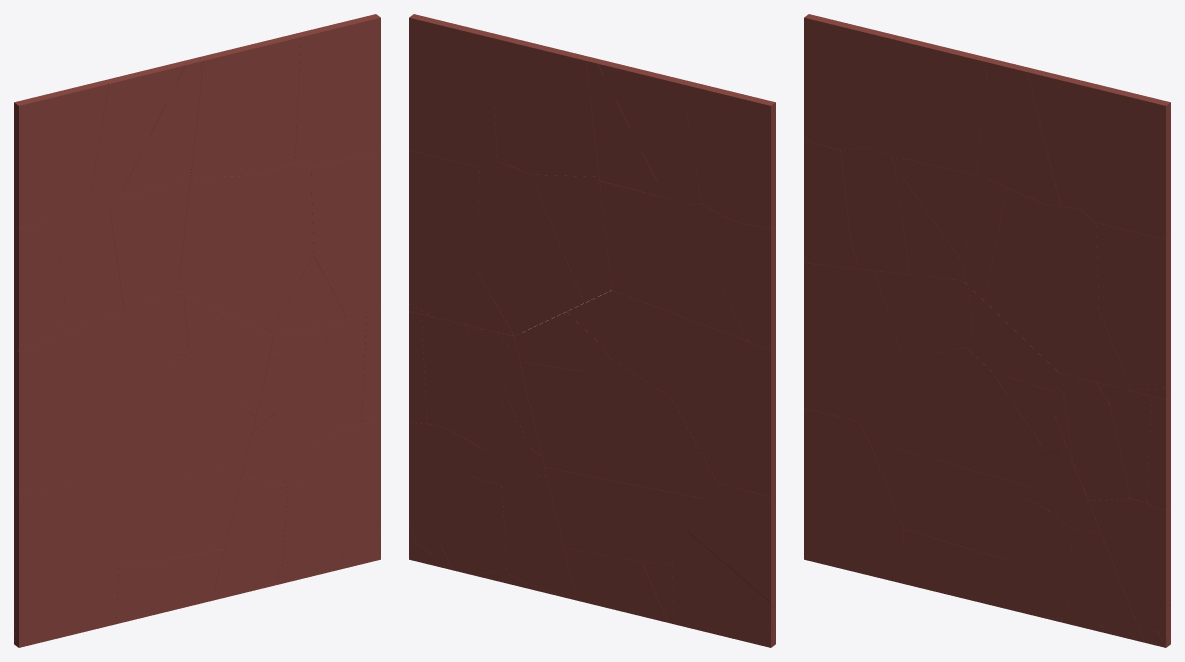
Rendered from wall03,04_Bx.fbx.
3 renders of one model, left to right at view 1: azimuth 30°, elevation 25°; view 2: azimuth 150°, elevation 25°; view 3: azimuth 330°, elevation 25°, orthographic.
Parts seen in each view (by area): view 1: wall03_B.001_cell.002_cell.012, wall03_B.001_cell.002_cell, wall03_B.001_cell.002_cell.010, wall03_B.001_cell.001_cell, wall03_B.001_cell.001_cell.009, wall03_B.001_cell.005_cell, wall03_B.001_cell.002_cell.013, wall03_B.001_cell.001_cell.005, wall03_B.001_cell.001_cell.003, wall03_B.001_cell.005_cell.004, wall03_B.001_cell.003_cell.011, wall03_B.001_cell.005_cell.007 (+23 smaller); view 2: wall03_B.001_cell.002_cell.012, wall03_B.001_cell.002_cell.010, wall03_B.001_cell.001_cell.009, wall03_B.001_cell.001_cell, wall03_B.001_cell.005_cell, wall03_B.001_cell.001_cell.005, wall03_B.001_cell.002_cell.013, wall03_B.001_cell.001_cell.003, wall03_B.001_cell.005_cell.004, wall03_B.001_cell.002_cell.001, wall03_B.001_cell.002_cell, wall03_B.001_cell.002_cell.007 (+23 smaller); view 3: wall03_B.001_cell.002_cell.012, wall03_B.001_cell.002_cell, wall03_B.001_cell.001_cell, wall03_B.001_cell.002_cell.010, wall03_B.001_cell.001_cell.009, wall03_B.001_cell.002_cell.013, wall03_B.001_cell.001_cell.005, wall03_B.001_cell.005_cell, wall03_B.001_cell.001_cell.003, wall03_B.001_cell.003_cell.011, wall03_B.001_cell.005_cell.004, wall03_B.001_cell.005_cell.007 (+23 smaller).
Boxes of the visible parts, <box> form: wall03_B.001_cell.002_cell.012: <box>72,357,255,496</box>; wall03_B.001_cell.002_cell: <box>14,483,118,647</box>; wall03_B.001_cell.002_cell.010: <box>14,325,117,496</box>; wall03_B.001_cell.001_cell: <box>293,14,380,168</box>; wall03_B.001_cell.001_cell.009: <box>207,163,313,333</box>; wall03_B.001_cell.005_cell: <box>14,80,108,228</box>; wall03_B.001_cell.002_cell.013: <box>84,465,244,568</box>; wall03_B.001_cell.001_cell.005: <box>311,151,380,317</box>; wall03_B.001_cell.001_cell.003: <box>190,46,275,177</box>; wall03_B.001_cell.005_cell.004: <box>90,60,187,203</box>; wall03_B.001_cell.003_cell.011: <box>303,423,380,556</box>; wall03_B.001_cell.005_cell.007: <box>55,201,124,329</box>; wall03_B.001_cell.002_cell.012: <box>535,357,717,498</box>; wall03_B.001_cell.002_cell.010: <box>672,324,775,496</box>; wall03_B.001_cell.001_cell.009: <box>476,161,583,335</box>; wall03_B.001_cell.001_cell: <box>409,14,496,167</box>; wall03_B.001_cell.005_cell: <box>682,80,775,228</box>; wall03_B.001_cell.001_cell.005: <box>409,150,479,320</box>; wall03_B.001_cell.002_cell.013: <box>545,467,704,563</box>; wall03_B.001_cell.001_cell.003: <box>506,48,599,176</box>; wall03_B.001_cell.005_cell.004: <box>598,61,701,205</box>; wall03_B.001_cell.002_cell.001: <box>672,532,772,647</box>; wall03_B.001_cell.002_cell: <box>688,483,775,646</box>; wall03_B.001_cell.002_cell.007: <box>602,290,700,397</box>; wall03_B.001_cell.002_cell.012: <box>857,348,1040,486</box>; wall03_B.001_cell.002_cell: <box>804,408,903,583</box>; wall03_B.001_cell.001_cell: <box>1080,82,1170,239</box>; wall03_B.001_cell.002_cell.010: <box>804,263,902,420</box>; wall03_B.001_cell.001_cell.009: <box>992,205,1099,367</box>; wall03_B.001_cell.002_cell.013: <box>869,440,1029,560</box>; wall03_B.001_cell.001_cell.005: <box>1096,222,1170,389</box>; wall03_B.001_cell.005_cell: <box>804,14,897,149</box>; wall03_B.001_cell.001_cell.003: <box>975,59,1060,206</box>; wall03_B.001_cell.003_cell.011: <box>1089,498,1170,632</box>; wall03_B.001_cell.005_cell.004: <box>875,36,981,158</box>; wall03_B.001_cell.005_cell.007: <box>840,147,909,274</box>.
Bounding box in the file's own units: 854 × 1222 × 20.22.
